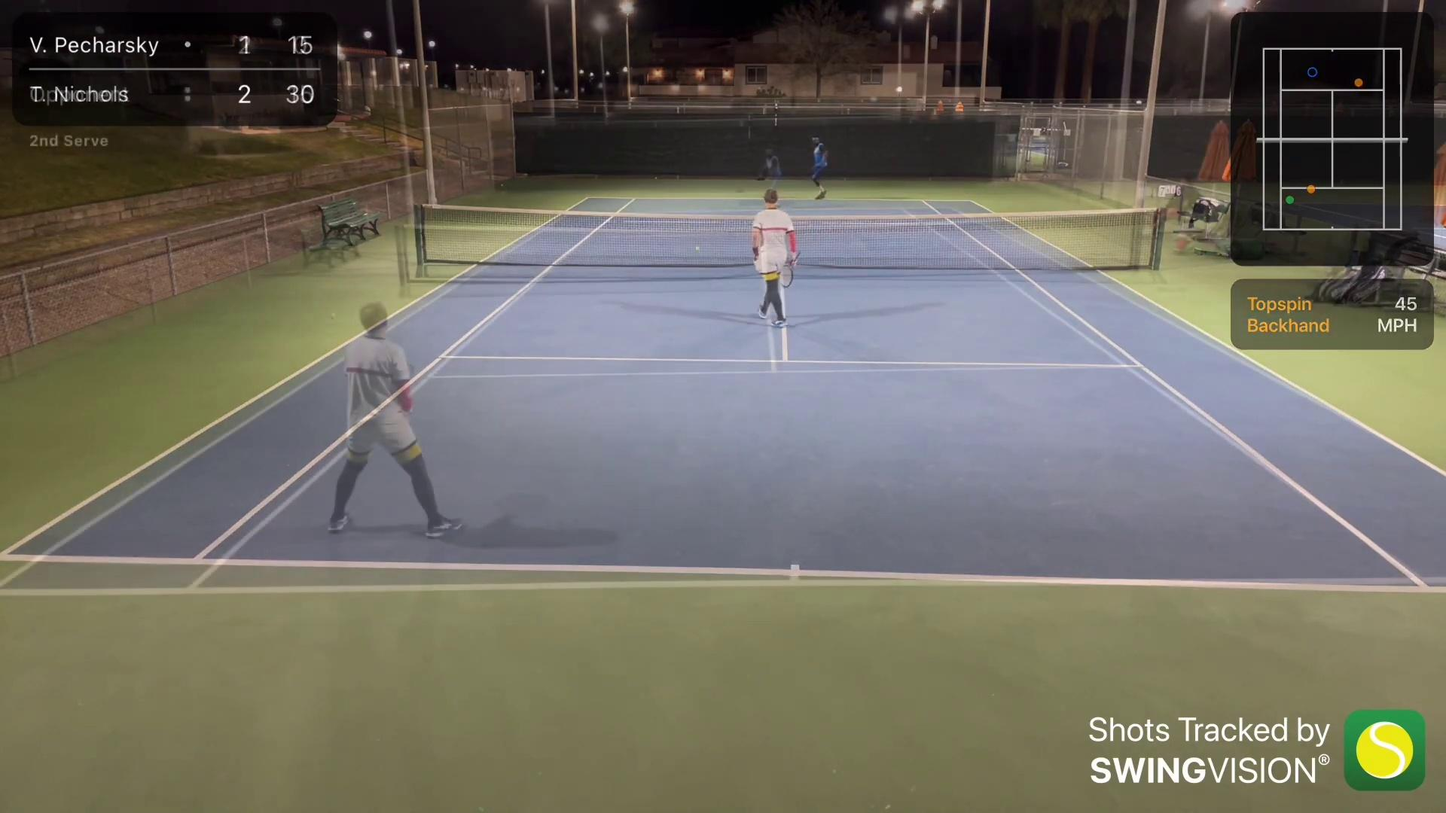ball: (695, 246, 700, 251)
